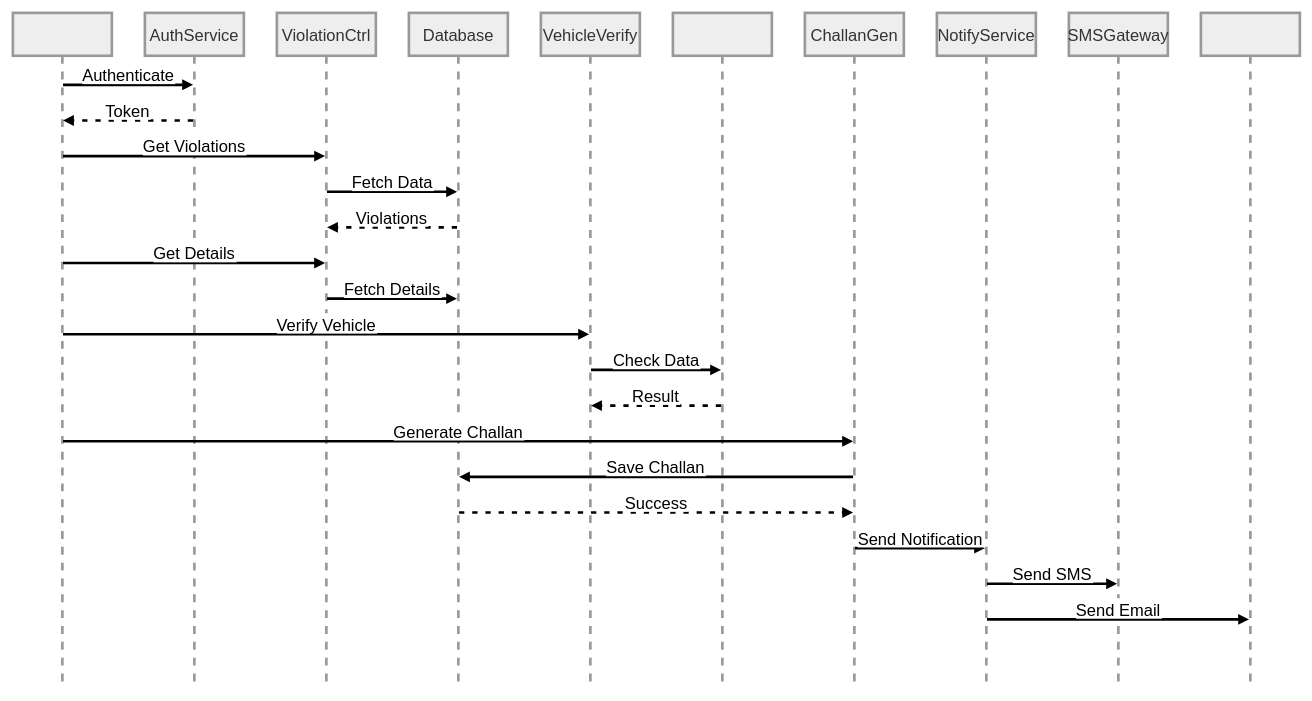
Image size: 1312x701. Some labels were removed from this diagram. The box of each missing label's shape, as (x1, y1, x2, y2) in pixels:
EmailService: (1199, 11, 1301, 690)
ExternalRTO: (671, 11, 773, 690)
Officer: (11, 11, 113, 690)
